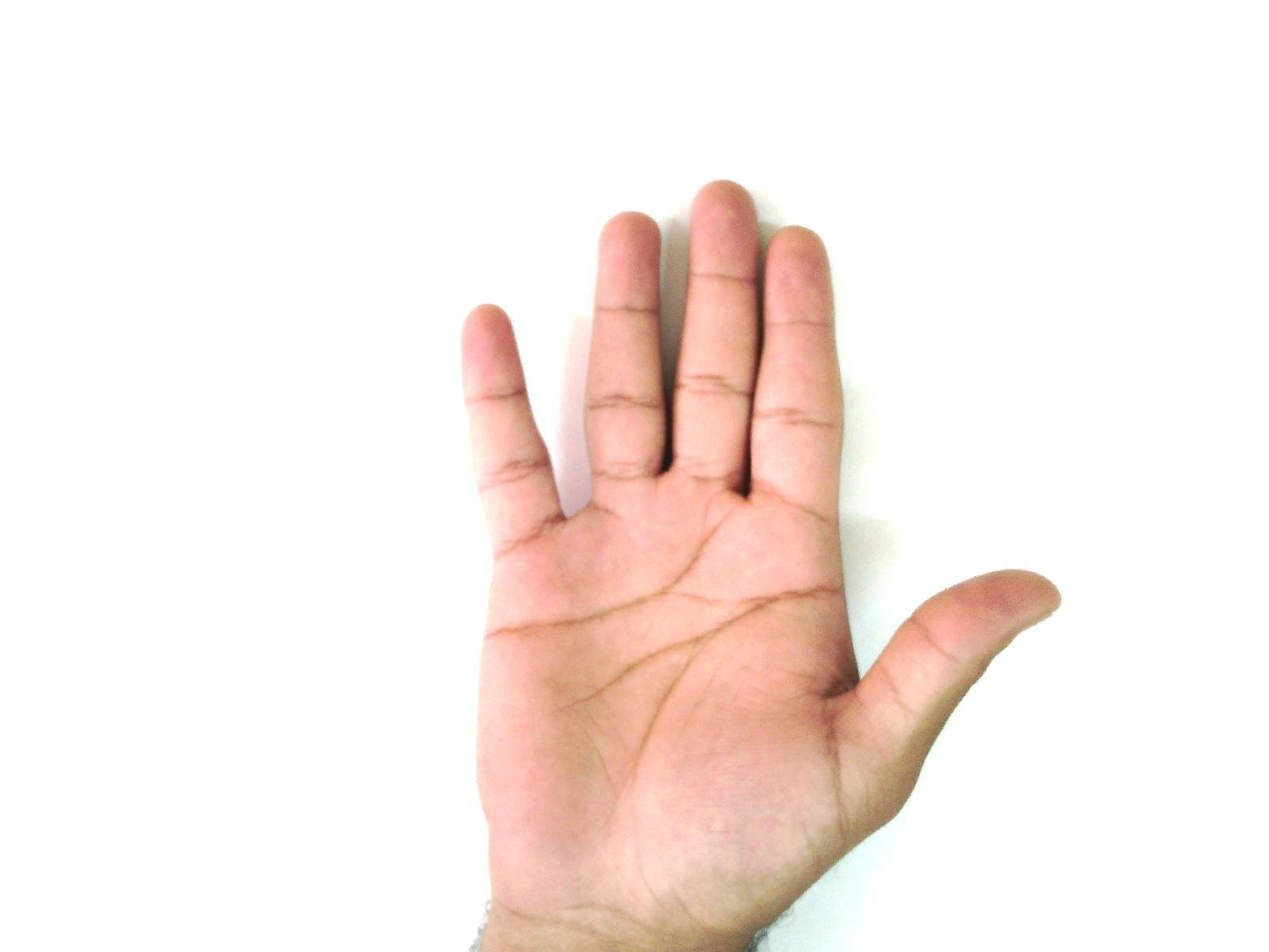open_palm: (455, 179, 1063, 950)
